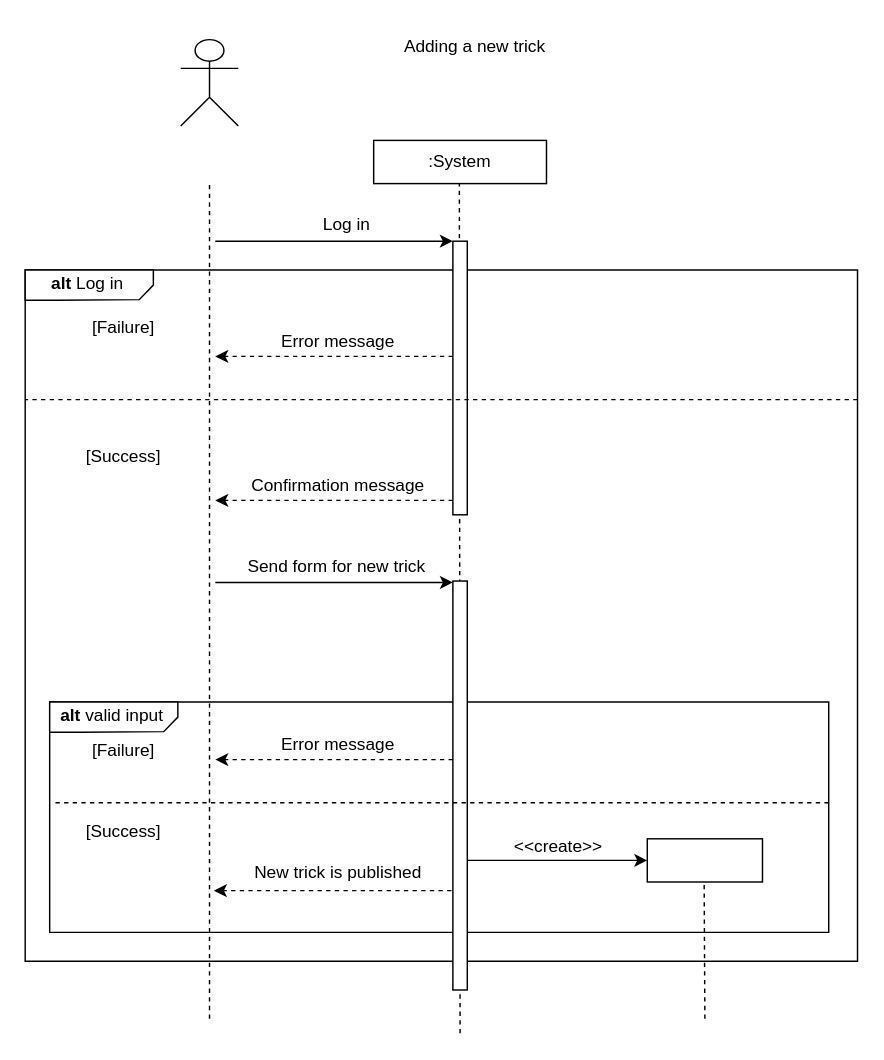
This 884x1060 diagram has some shape labels left out. Here are the shapes that lost their labels. From the top down, the centre of each, then its label:
At pixel 208 82: "User".
At pixel 704 859: ":Trick".
